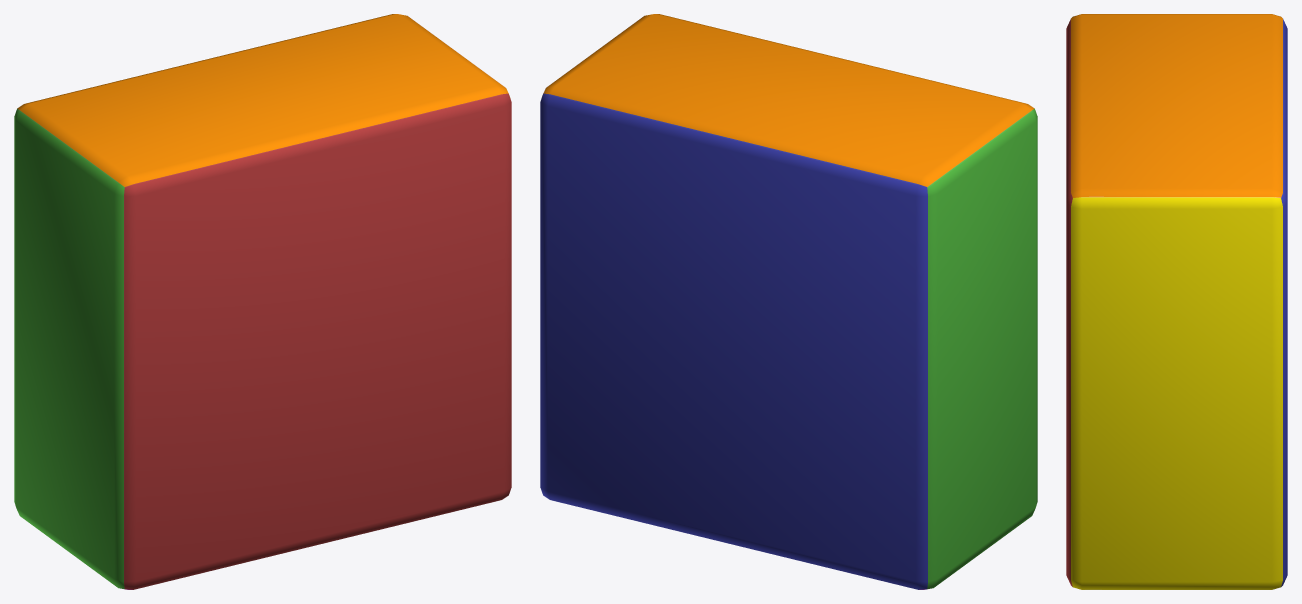
Rendered from torso.obj.
The picture shows the model from 3 angles, left to right: view 1: azimuth 30°, elevation 25°; view 2: azimuth 150°, elevation 25°; view 3: azimuth 270°, elevation 25°; orthographic projection. The views are drawn at different scales.
Parts seen in each view (by area): view 1: Cube.002; view 2: Cube.002; view 3: Cube.002.
Part boxes in pixels (x1,y1,x2,y2): Cube.002: (14, 14, 511, 589); Cube.002: (540, 14, 1037, 589); Cube.002: (1066, 14, 1287, 589).
Bounding box in the file's own units: 2 × 2 × 1.
